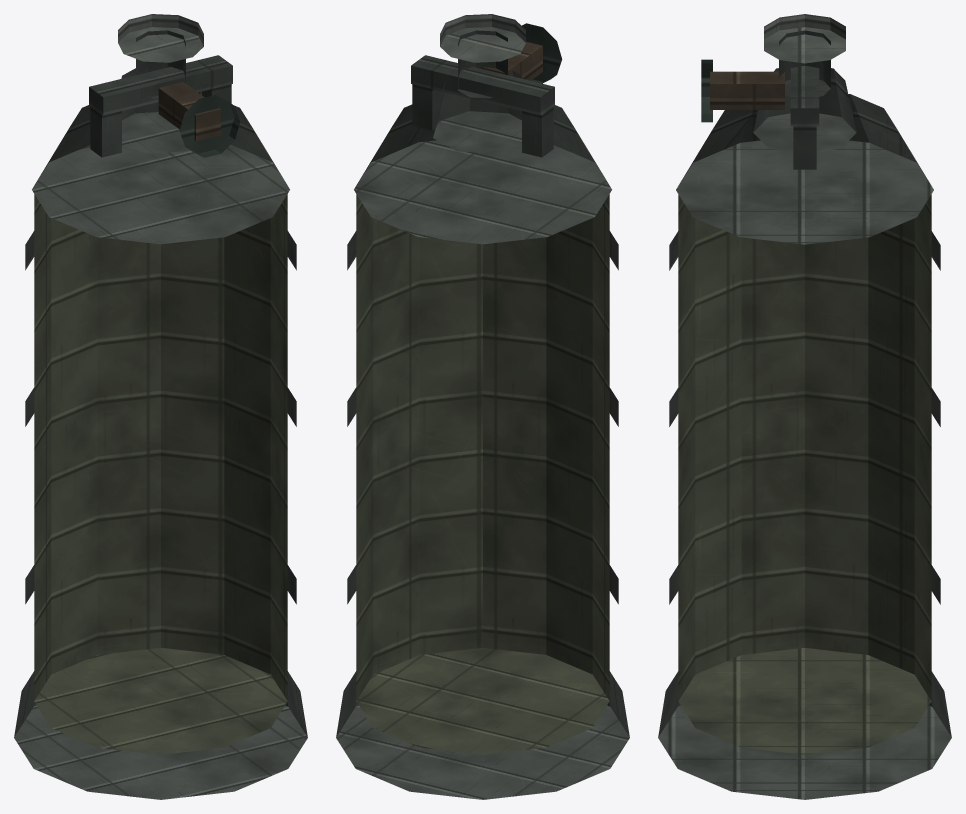
File: canister.glb
3 renders of one model, left to right at view 1: azimuth 30°, elevation 25°; view 2: azimuth 150°, elevation 25°; view 3: azimuth 270°, elevation 25°, orthographic.
Parts seen in each view (by area): view 1: canister; view 2: canister; view 3: canister.
Boxes of the visible parts, box(x1,y1,x2,y2) form: canister: box(14, 14, 307, 799); canister: box(336, 14, 629, 799); canister: box(658, 14, 951, 799).
Bounding box in the file's own units: 0.4529 × 1.2 × 0.4529.
Materials: 1 (1 with a texture image).
